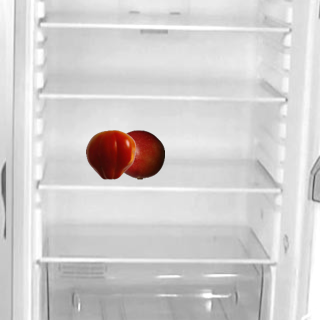Apple Braeburn: (114, 129, 164, 179)
Tomato 1: (85, 129, 135, 179)
